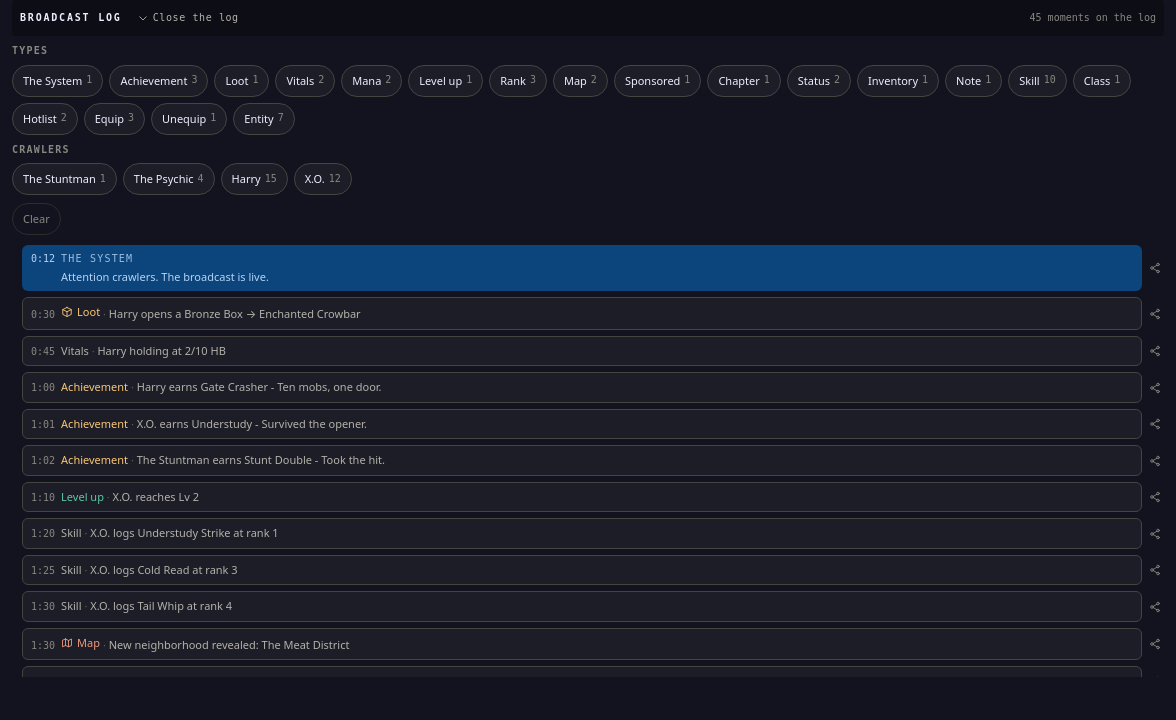
EpisodeLog - filters › clears every chip, and offers nothing to clear until there is
Expected: the button with test id "log-clear" is disabled, 12,203 -> 61,235
Click the button with test id "log-chip-type-achievement". click: point(159, 80)
box: 109,64 -> 208,96
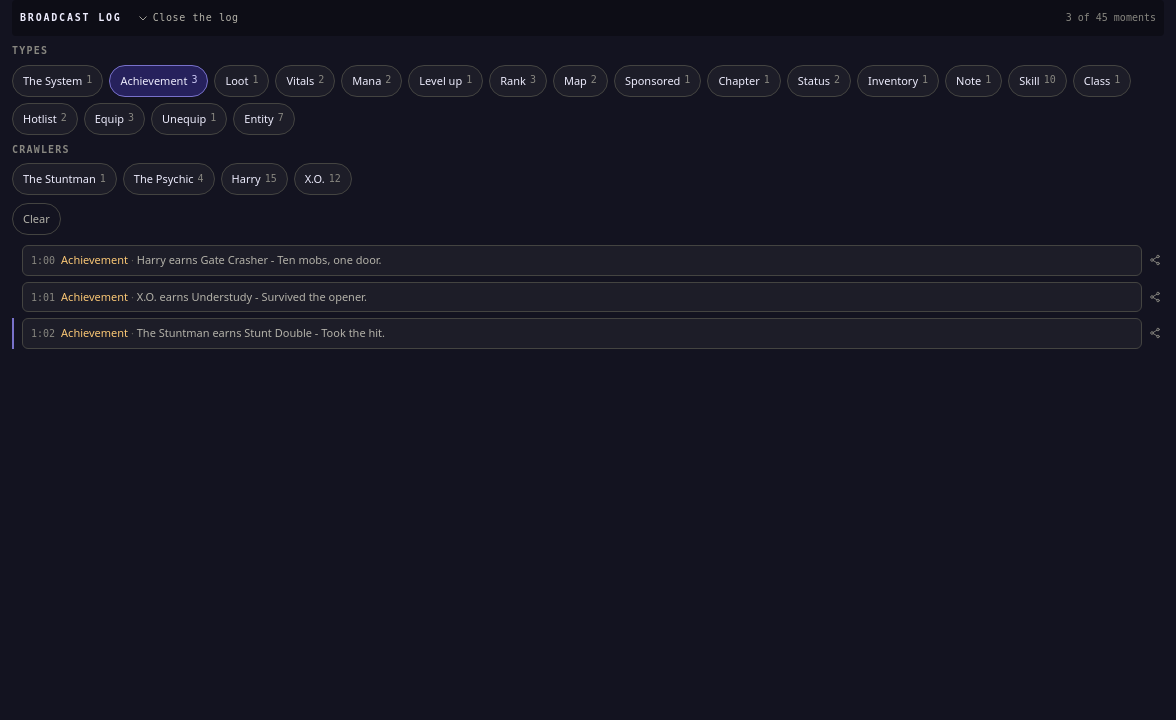
Click the button "Harry 15". click: point(254, 179)
box: 221,163 -> 288,195
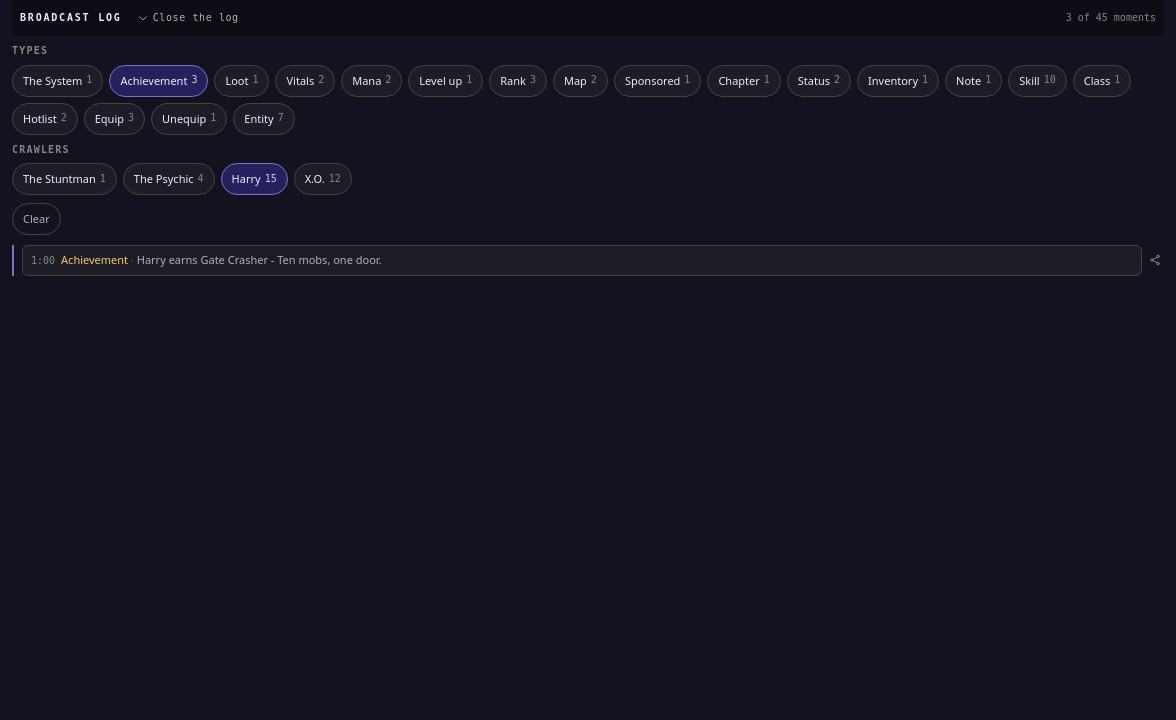
Expected: the button with test id "log-clear" is enabled
Click the button with test id "log-clear". click: point(36, 219)
box: 12,203 -> 61,235
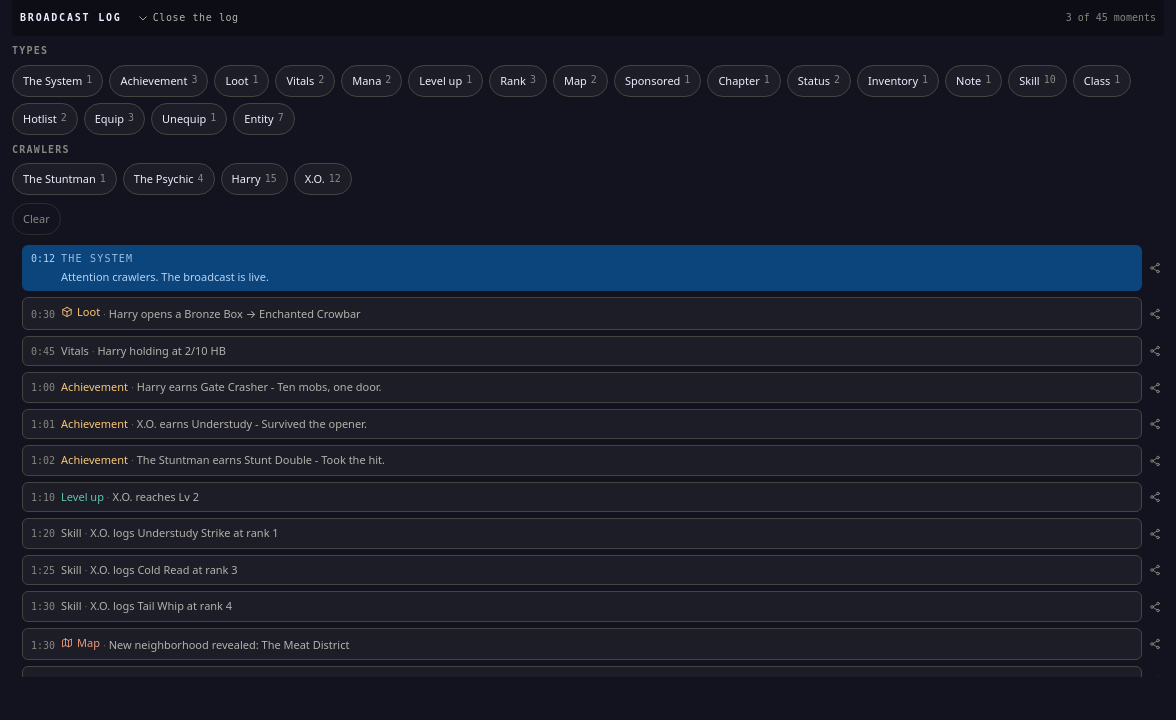
Expected: the button with test id "log-clear" is disabled, 12,203 -> 61,235
